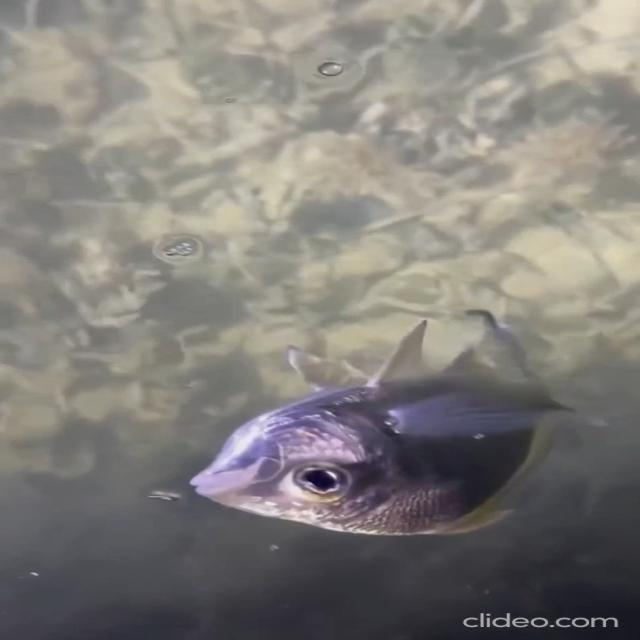fish: (188, 320, 614, 543)
